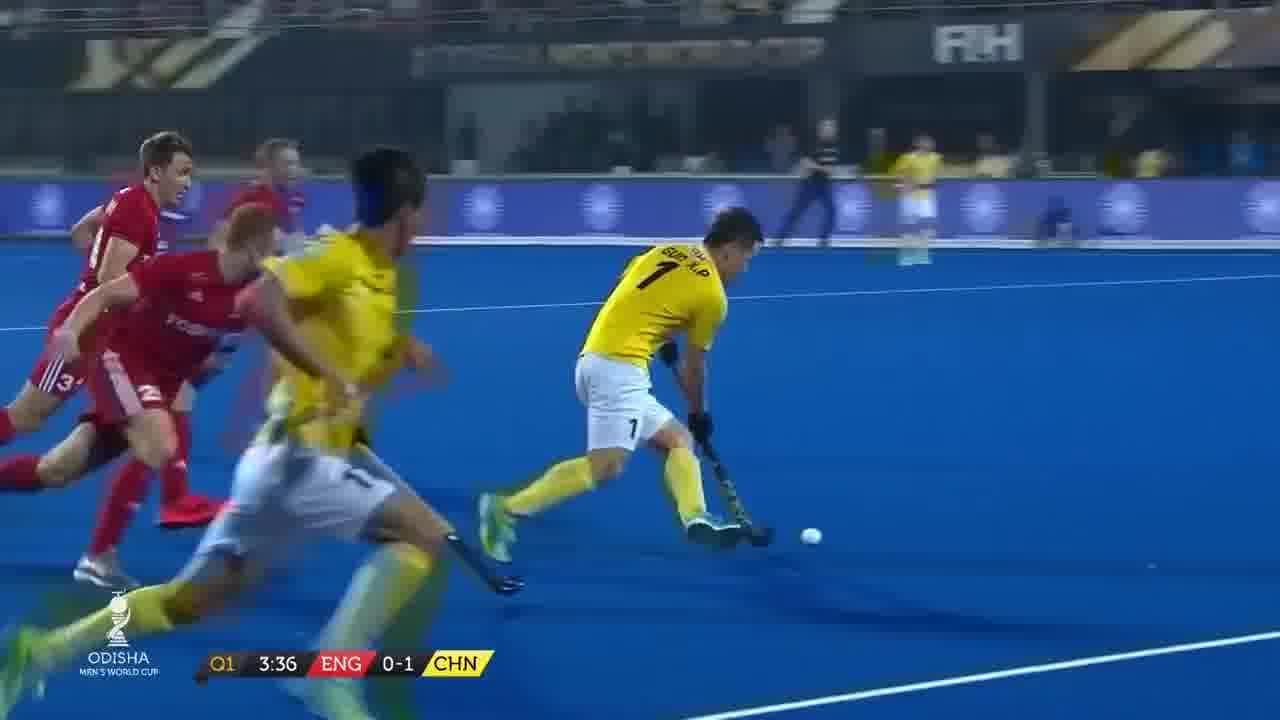ball: (800, 528, 826, 548)
